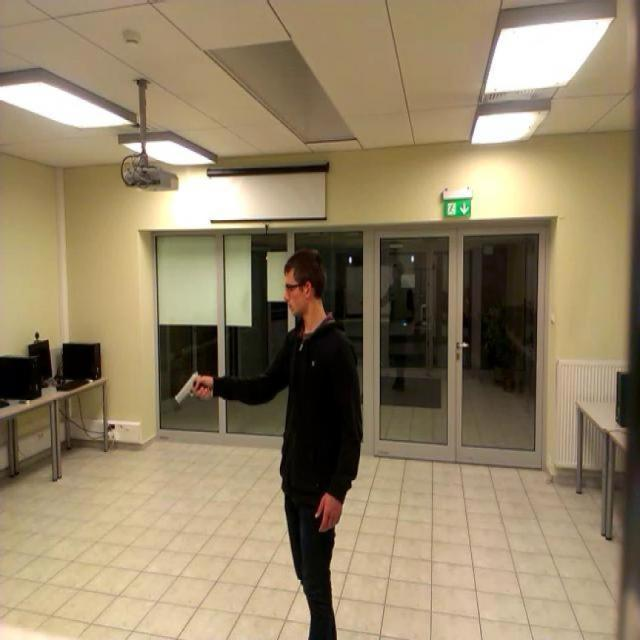pistol: (174, 369, 212, 404)
